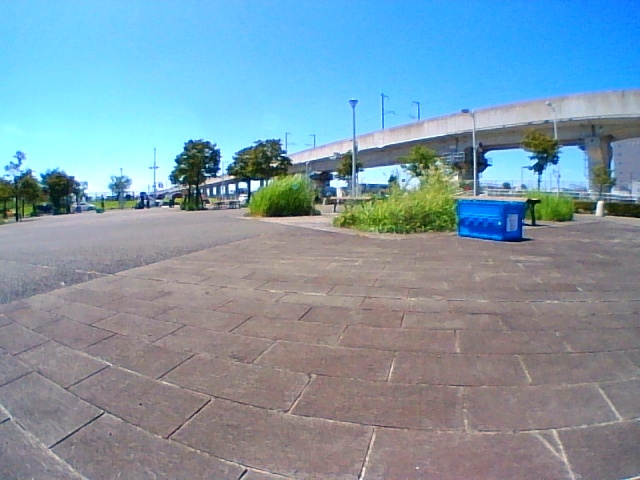blue_box: (459, 202, 523, 237)
tag_b: (507, 215, 517, 231)
